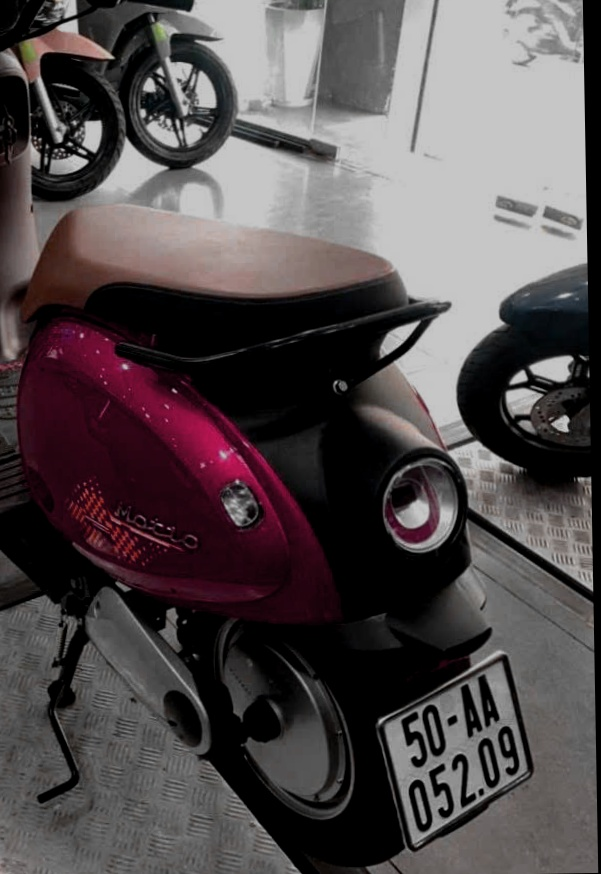Bien-so: (397, 631, 575, 820)
